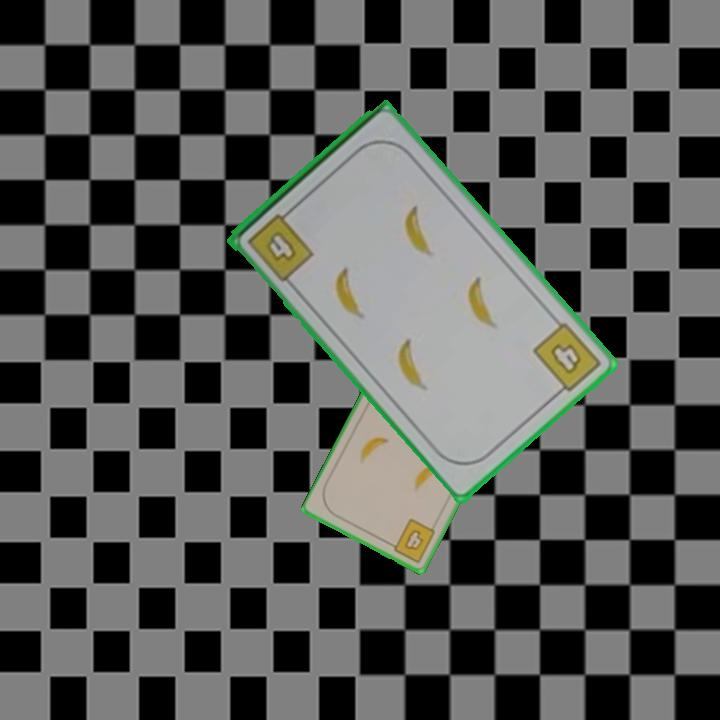4b: (529, 318, 605, 400), (243, 204, 317, 285), (384, 515, 438, 566)
